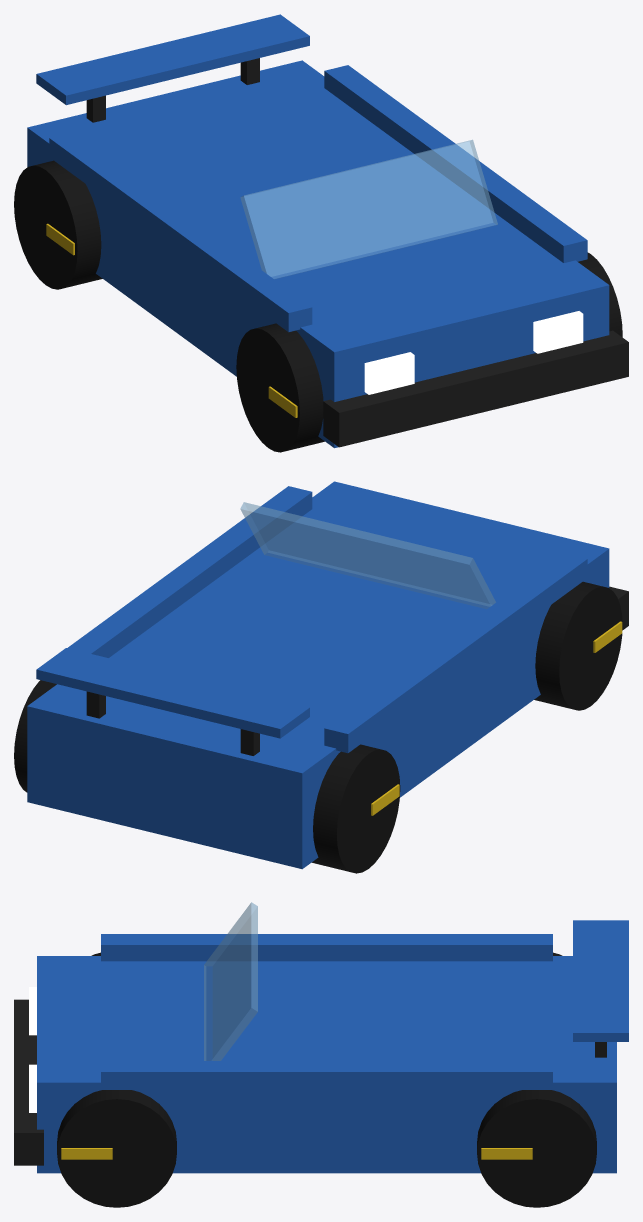
The model's file is derby-buggy.glb.
The picture shows the model from 3 angles, top to bottom: view 1: azimuth 30°, elevation 25°; view 2: azimuth 150°, elevation 25°; view 3: azimuth 270°, elevation 25°; orthographic projection. The views are drawn at different scales.
Visible parts, largest first — view 1: Chassis, Windshield, RamBar, Fender_R, Fender_L, Spoiler, Wheel_FL, Wheel_RL, Headlight_R, Headlight_L, Wheel_FR; view 2: Chassis, Windshield, Fender_R, Spoiler, Fender_L, Wheel_RL, Wheel_FL, Wheel_RR; view 3: Chassis, Fender_L, Fender_R, Wheel_FR, Wheel_RR, Spoiler, Windshield, RamBar, Stripe (×2).
Boxes of the visible parts, x1,y1,x2,y2 form: Chassis: (27,60,609,448); Windshield: (240,139,497,278); RamBar: (323,330,628,447); Fender_R: (49,132,312,332); Fender_L: (324,65,587,262); Spoiler: (36,14,309,105); Wheel_FL: (236,323,324,452); Wheel_RL: (14,160,102,289); Headlight_R: (364,352,414,394); Headlight_L: (533,311,583,353); Wheel_FR: (578,252,622,337); Chassis: (27,481,609,869); Windshield: (240,502,495,608); Fender_R: (324,553,587,753); Spoiler: (36,648,309,738); Fender_L: (67,486,312,657); Wheel_RL: (312,744,400,873); Wheel_FL: (534,581,622,710); Wheel_RR: (14,680,56,792); Chassis: (37,956,616,1173); Fender_L: (101,1061,552,1089); Fender_R: (101,934,552,961); Wheel_FR: (57,1090,176,1207); Wheel_RR: (477,1090,596,1207); Spoiler: (573,920,628,1041); Windshield: (204,902,257,1060); RamBar: (14,999,43,1165); Stripe (×2): (61,1148,532,1159).
Bounding box in the file's own units: 1.78 × 0.9846 × 3.08.
